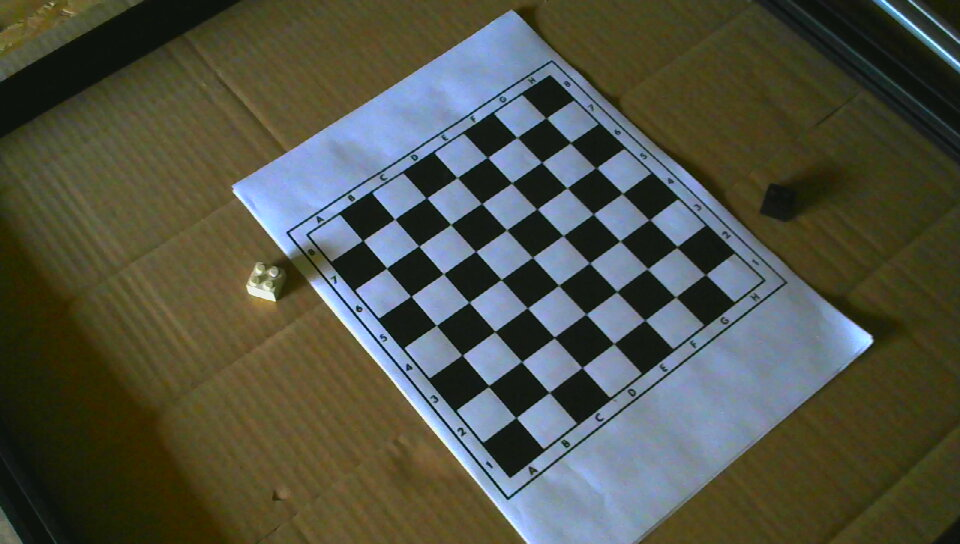bp: (760, 183, 799, 222)
wp: (247, 262, 286, 300)
